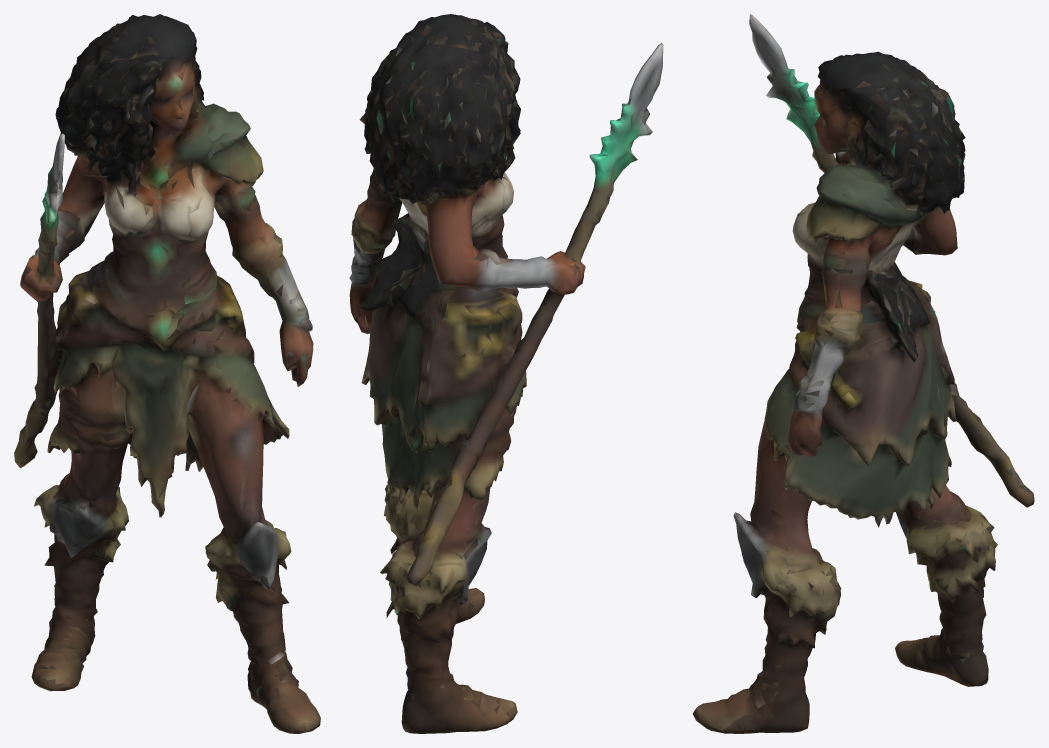
Rendered from Touzo_final.glb.
3 views of the same model, side by side, from view 1: azimuth 30°, elevation 25°; view 2: azimuth 150°, elevation 25°; view 3: azimuth 270°, elevation 25° (orthographic). The views are drawn at different scales.
Parts seen in each view (by area): view 1: Mesh1.0; view 2: Mesh1.0; view 3: Mesh1.0.
Boxes of the visible parts, x1,y1,x2,y2 form: Mesh1.0: [14, 14, 320, 733]; Mesh1.0: [349, 14, 663, 733]; Mesh1.0: [692, 14, 1034, 733].
Size of the model in its own units: 0.8019 by 1.8 by 0.8766.
Materials: 1 (1 with a texture image).
